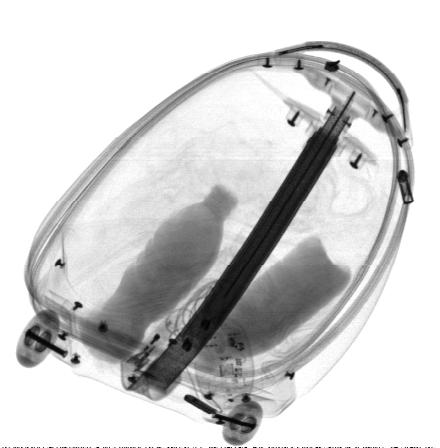Lighter: (125, 316, 178, 373)
